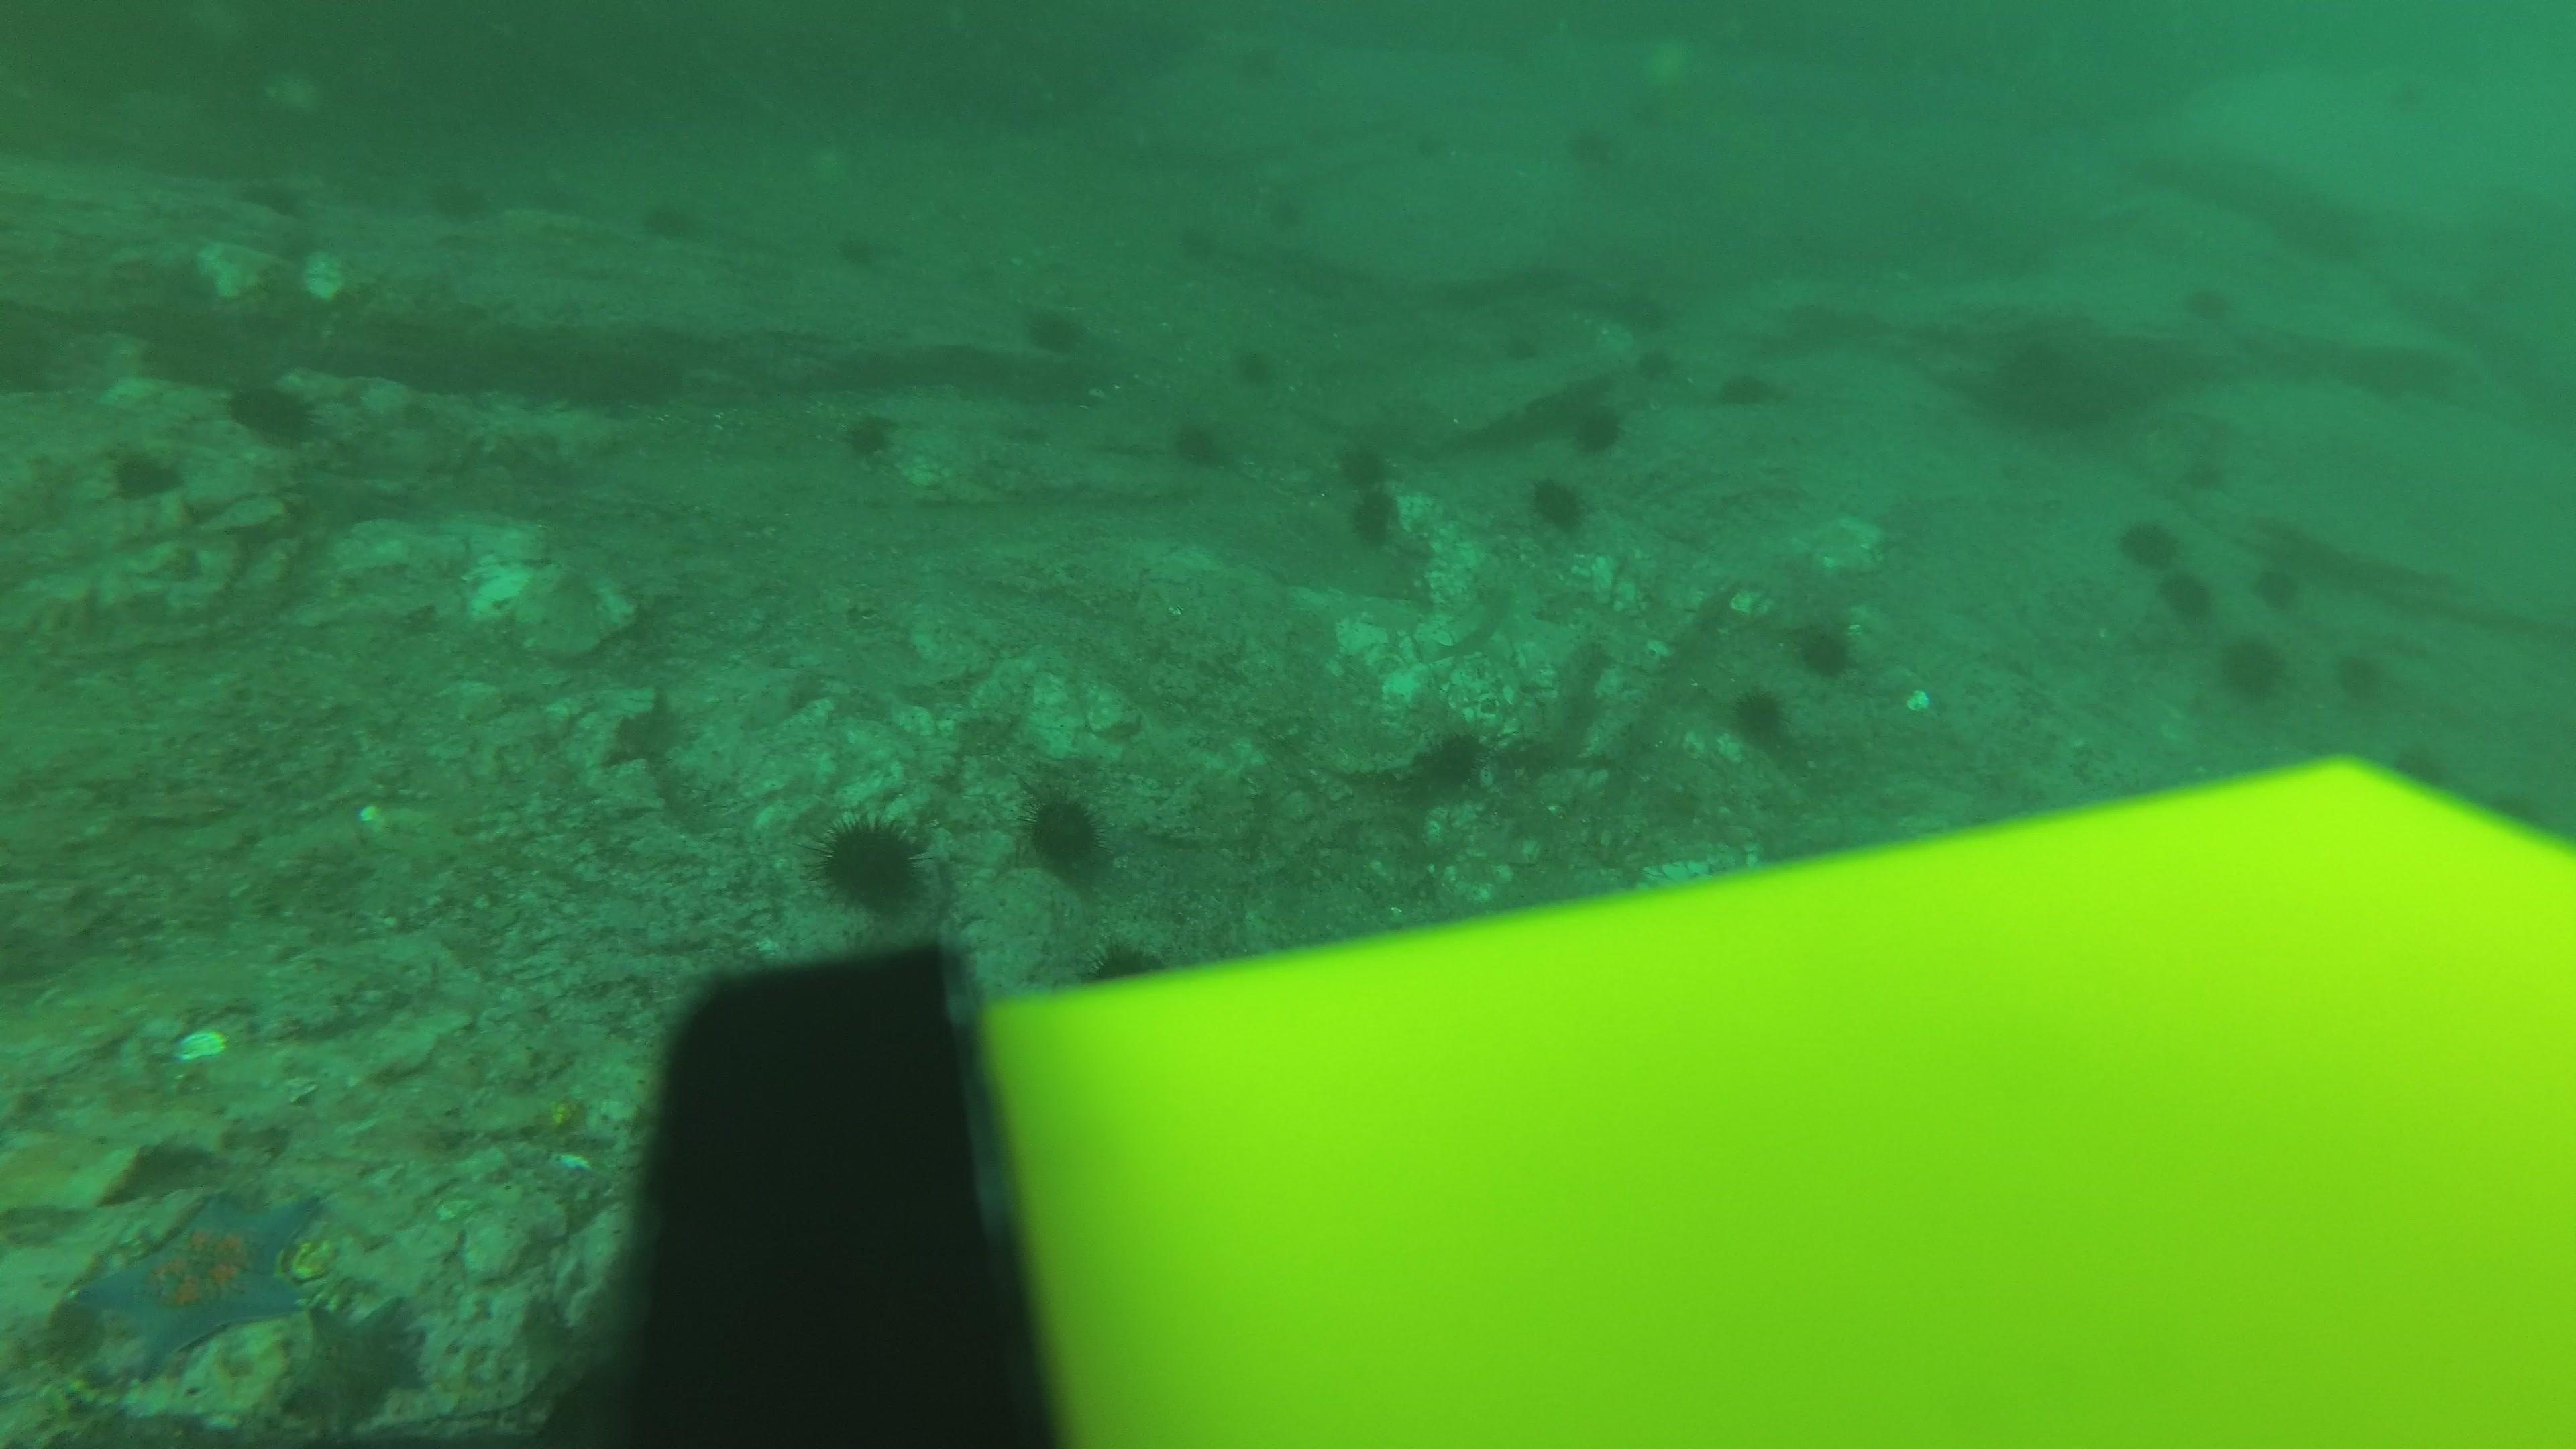echinus: (809, 809, 932, 918), (1016, 782, 1116, 886), (223, 372, 322, 449), (1407, 724, 1490, 801), (101, 441, 184, 508), (2215, 633, 2289, 708), (1787, 610, 1861, 681), (1601, 83, 1674, 150), (2112, 506, 2185, 571), (2171, 274, 2243, 340), (1557, 111, 1629, 177), (1723, 681, 1792, 748), (1019, 297, 1092, 361), (1523, 471, 1592, 536), (425, 168, 495, 228), (1338, 485, 1401, 550), (2332, 644, 2396, 709), (837, 405, 904, 467), (1566, 395, 1629, 458), (2151, 561, 2215, 625), (1088, 932, 1164, 985), (1334, 435, 1398, 497), (635, 191, 704, 248), (1168, 414, 1231, 474), (1713, 363, 1785, 414), (1261, 186, 1322, 242), (1157, 221, 1217, 278), (1615, 336, 1675, 393), (1619, 299, 1679, 356), (832, 216, 892, 272), (1223, 34, 1283, 88), (1401, 122, 1461, 177), (1491, 311, 1550, 366), (2252, 557, 2305, 614), (2012, 334, 2066, 387), (1230, 340, 1279, 391)
starfish: (74, 1184, 329, 1373), (265, 1297, 428, 1435)
